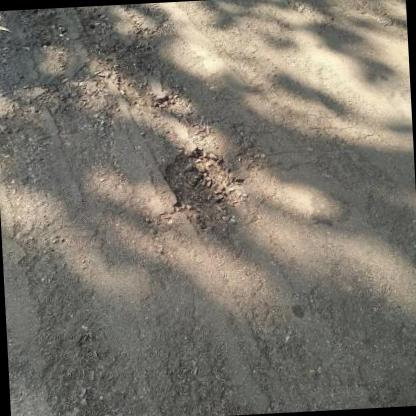pothole: (157, 148, 248, 232)
